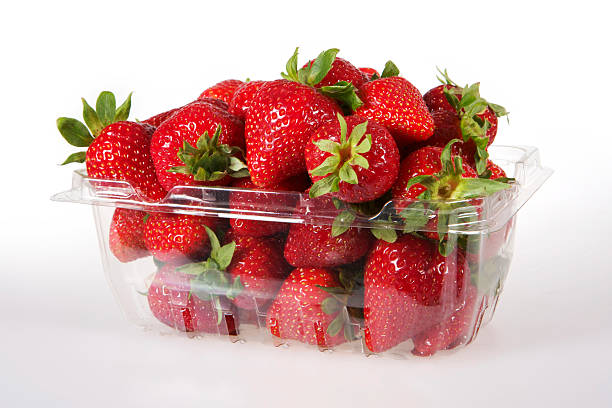Fresa: (359, 228, 474, 355), (244, 74, 350, 190), (147, 99, 248, 195), (392, 144, 486, 247), (82, 119, 178, 217), (302, 112, 403, 205), (144, 257, 244, 340), (265, 264, 358, 352), (283, 186, 371, 274), (351, 74, 440, 144), (216, 228, 287, 313), (424, 81, 499, 160), (140, 204, 221, 264)
